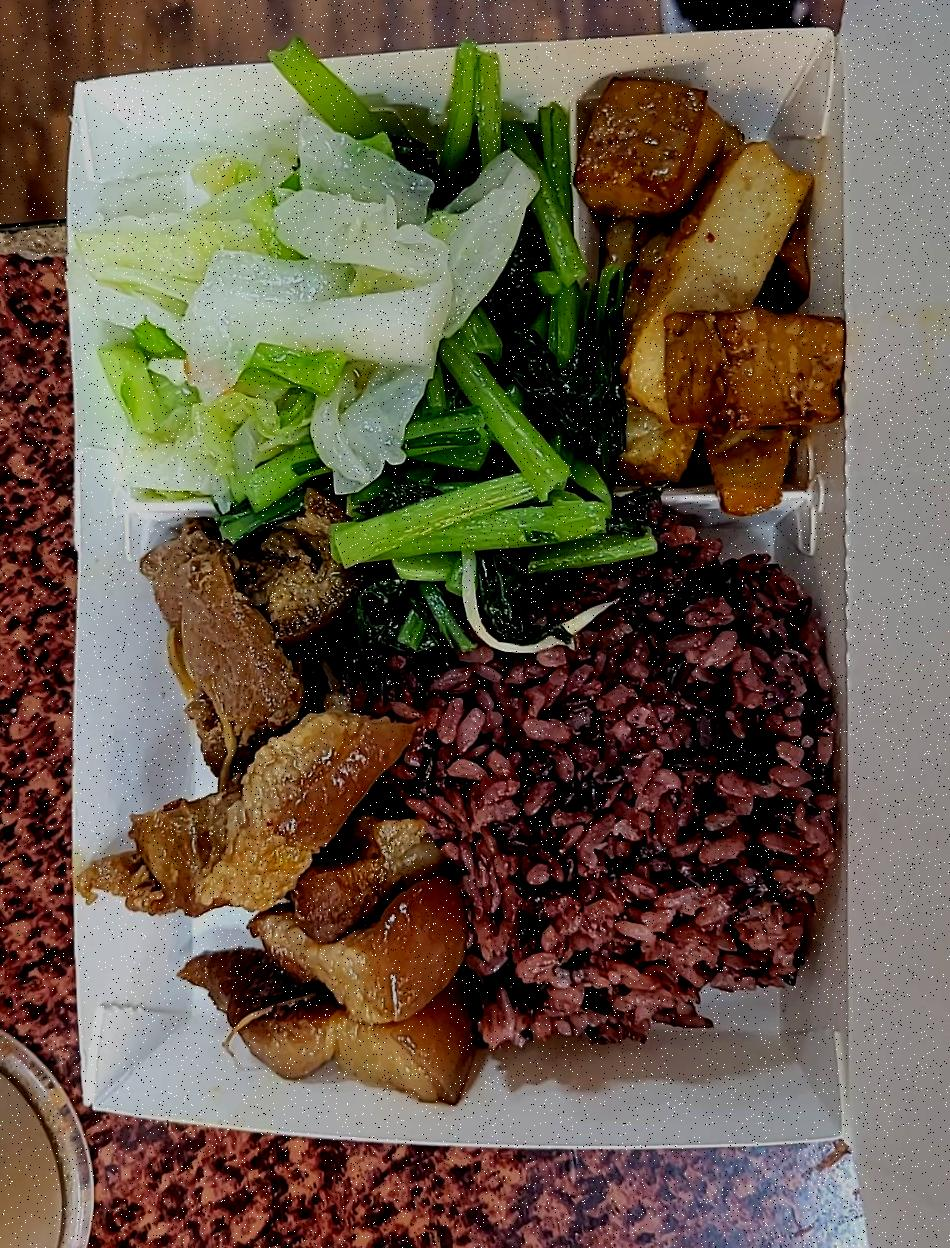box: (57, 11, 899, 1154)
braised pork: (119, 528, 460, 1107)
purple rice: (340, 516, 840, 1062)
side dish: (316, 59, 622, 578), (102, 128, 500, 478), (570, 45, 850, 508)
